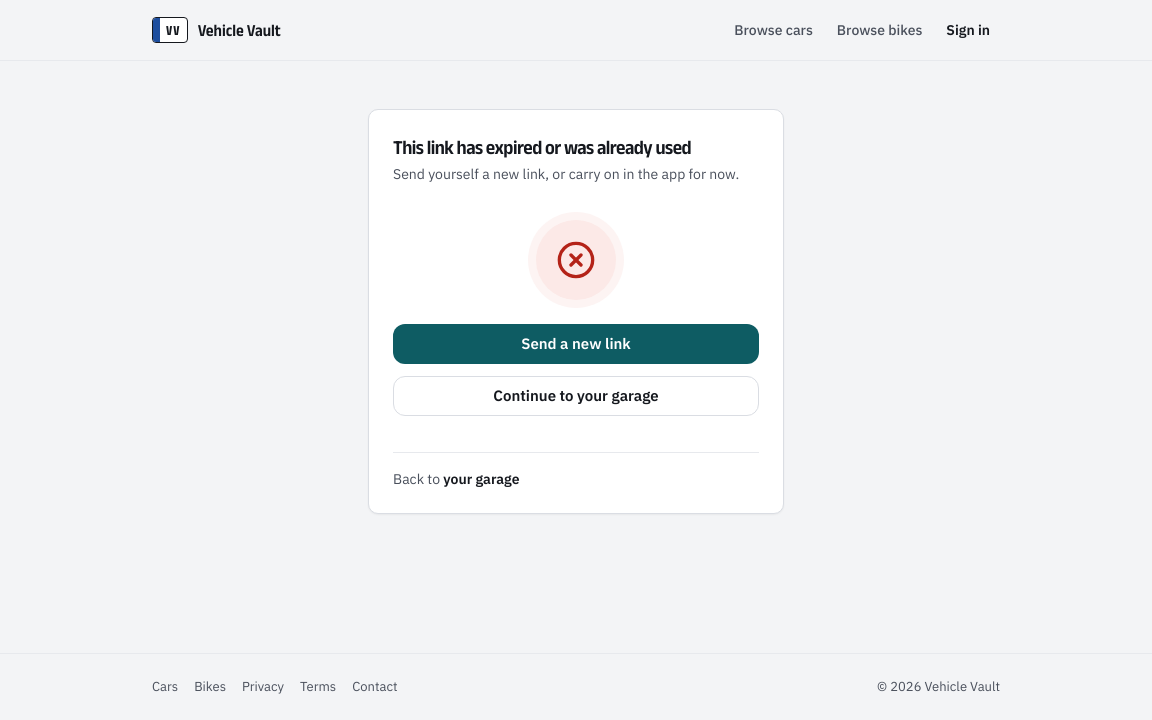
VerifyEmailPage › shows a signed-in user a spent link as a failure, with a new link on offer
Click the button "Send a new link".
click(576, 344)  # box x1=393 y1=324 x2=759 y2=364
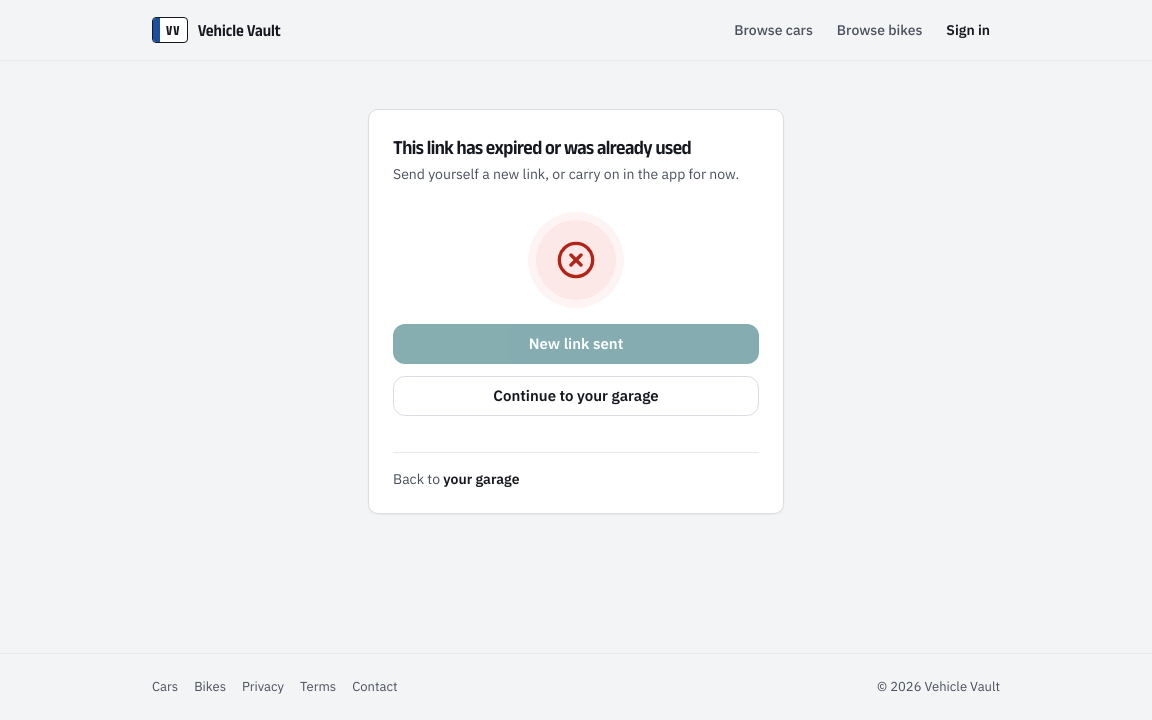
Check: the button "New link sent" is disabled, box x1=393 y1=324 x2=759 y2=364
